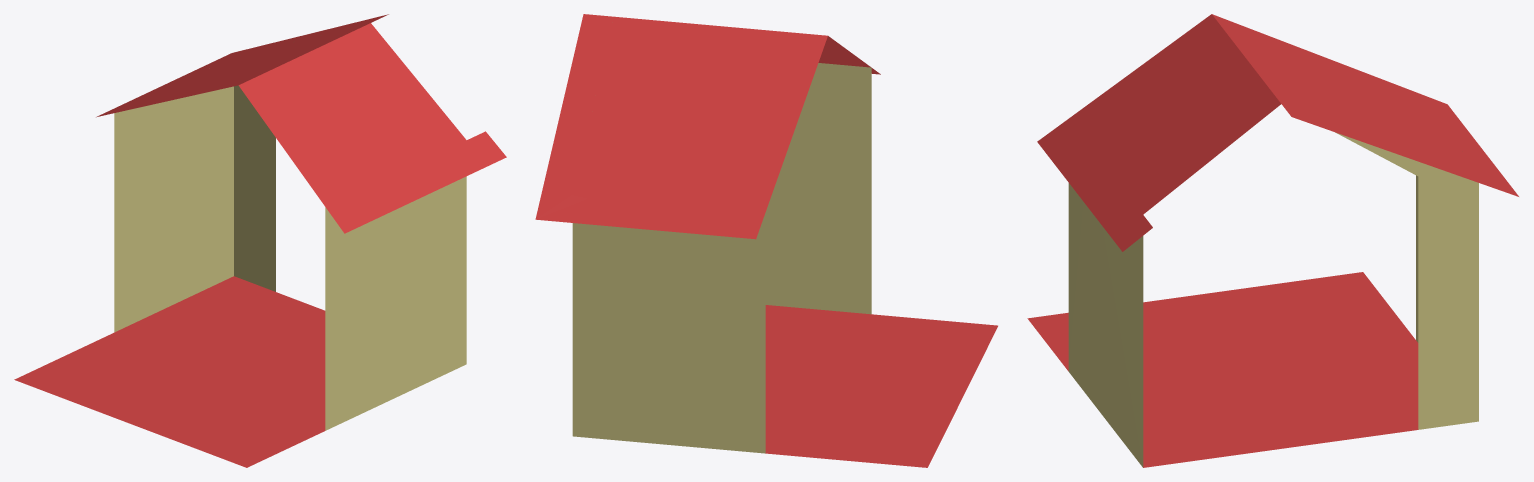
3 views of the same model, side by side, from view 1: azimuth 30°, elevation 25°; view 2: azimuth 150°, elevation 25°; view 3: azimuth 270°, elevation 25° (orthographic). The views are drawn at different scales.
Size of the model in its own units: 11.76 by 11.47 by 8.87.
